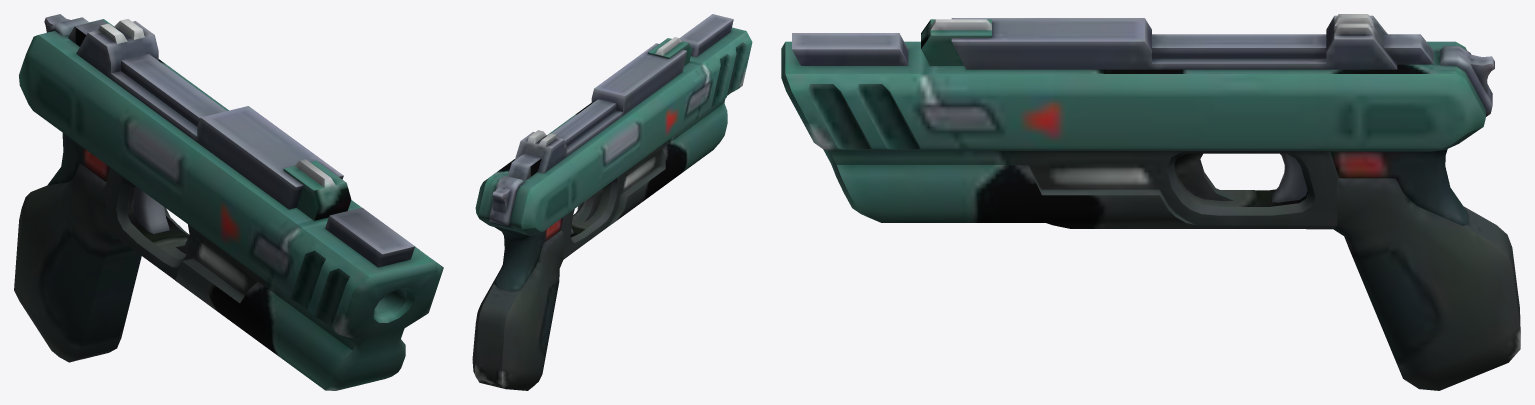
File: SM_Weapon_Calibri_Pistol.glb
3 renders of one model, left to right at view 1: azimuth 30°, elevation 25°; view 2: azimuth 150°, elevation 25°; view 3: azimuth 270°, elevation 25°, orthographic. The views are drawn at different scales.
Visible parts, largest first — view 1: SM_Weapon_Calibri_Pistol; view 2: SM_Weapon_Calibri_Pistol; view 3: SM_Weapon_Calibri_Pistol.
Boxes of the visible parts, x1,y1,x2,y2 form: SM_Weapon_Calibri_Pistol: [14, 14, 443, 390]; SM_Weapon_Calibri_Pistol: [472, 14, 752, 390]; SM_Weapon_Calibri_Pistol: [781, 14, 1520, 390].
Bounding box in the file's own units: 0.0486 × 0.1837 × 0.3415.
Materials: 1 (1 with a texture image).
